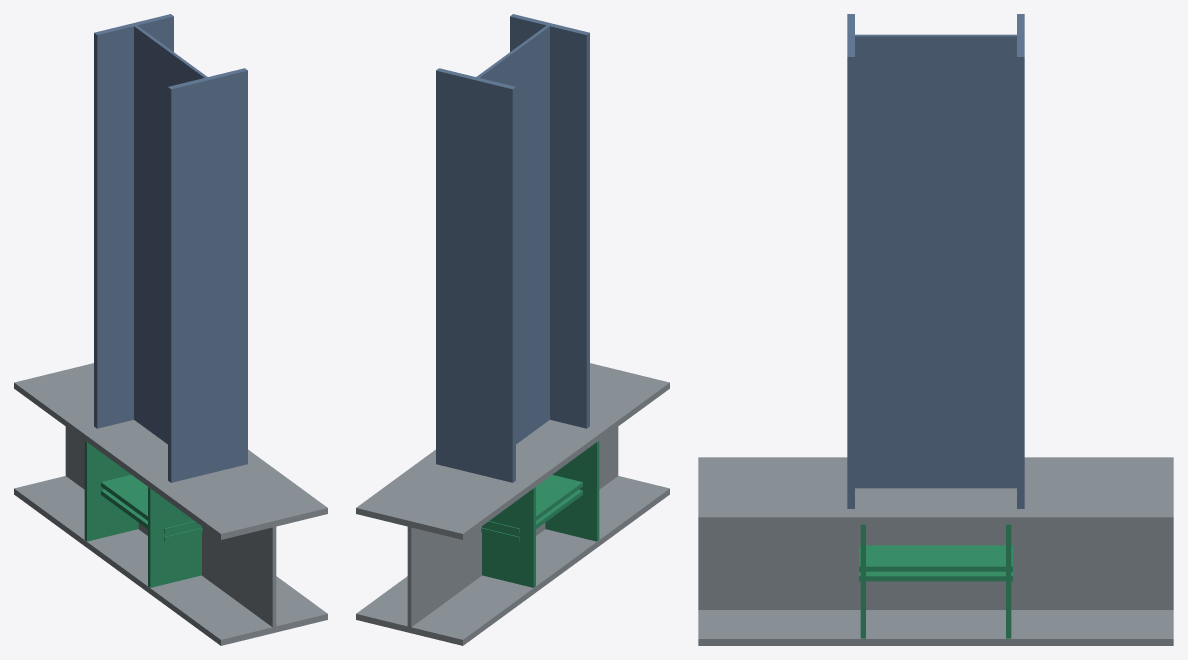
File: detail_C_beam_to_column_web_connection.obj
3 renders of one model, left to right at view 1: azimuth 30°, elevation 25°; view 2: azimuth 150°, elevation 25°; view 3: azimuth 270°, elevation 25°, orthographic. The views are drawn at different scales.
Visible parts, largest first — view 1: C_UB254x146_beam_top_flange, C_UB254x146_beam_bottom_flange, C_UC203x203_column_flange_far, C_UB254x146_beam_web, C_UC203x203_column_flange_near, C_UC203x203_column_web, C_PL8_column_stiffener_top, C_PL8_column_stiffener_bottom, C_PL8_column_web_plate_near, C_PL8_column_web_plate_far; view 2: C_UB254x146_beam_bottom_flange, C_UB254x146_beam_top_flange, C_UC203x203_column_flange_far, C_UB254x146_beam_web, C_UC203x203_column_flange_near, C_UC203x203_column_web, C_PL8_column_stiffener_bottom, C_PL8_column_stiffener_top, C_PL8_column_web_plate_near, C_PL8_column_web_plate_far; view 3: C_UB254x146_beam_web, C_UC203x203_column_web, C_UC203x203_column_flange_far, C_UC203x203_column_flange_near, C_UB254x146_beam_top_flange, C_UB254x146_beam_bottom_flange, C_PL8_column_web_plate_near, C_PL8_column_web_plate_far, C_PL8_column_stiffener_top, C_PL8_column_stiffener_bottom.
Boxes of the visible parts, x1,y1,x2,y2 form: C_UB254x146_beam_top_flange: [168, 68, 247, 482]; C_UB254x146_beam_bottom_flange: [94, 14, 173, 428]; C_UC203x203_column_flange_far: [14, 363, 327, 539]; C_UB254x146_beam_web: [134, 25, 207, 444]; C_UC203x203_column_flange_near: [14, 476, 327, 645]; C_UC203x203_column_web: [65, 427, 276, 627]; C_PL8_column_stiffener_top: [148, 487, 201, 587]; C_PL8_column_stiffener_bottom: [84, 441, 138, 541]; C_PL8_column_web_plate_near: [101, 475, 199, 533]; C_PL8_column_web_plate_far: [101, 489, 202, 541]; C_UB254x146_beam_bottom_flange: [436, 68, 515, 482]; C_UB254x146_beam_top_flange: [510, 14, 589, 428]; C_UC203x203_column_flange_far: [356, 363, 669, 539]; C_UB254x146_beam_web: [476, 25, 549, 444]; C_UC203x203_column_flange_near: [356, 476, 669, 645]; C_UC203x203_column_web: [407, 427, 618, 627]; C_PL8_column_stiffener_bottom: [482, 487, 535, 587]; C_PL8_column_stiffener_top: [545, 441, 599, 541]; C_PL8_column_web_plate_near: [484, 475, 582, 533]; C_PL8_column_web_plate_far: [481, 489, 582, 541]; C_UB254x146_beam_web: [855, 34, 1016, 488]; C_UC203x203_column_web: [698, 524, 1173, 609]; C_UC203x203_column_flange_far: [698, 457, 1173, 524]; C_UC203x203_column_flange_near: [698, 610, 1173, 645]; C_UB254x146_beam_top_flange: [847, 14, 854, 508]; C_UB254x146_beam_bottom_flange: [1017, 14, 1024, 508]; C_PL8_column_web_plate_near: [859, 545, 1012, 571]; C_PL8_column_web_plate_far: [859, 571, 1012, 581]; C_PL8_column_stiffener_top: [860, 524, 865, 638]; C_PL8_column_stiffener_bottom: [1006, 524, 1011, 638].
Size of the model in its own units: 203 by 916 by 680.
